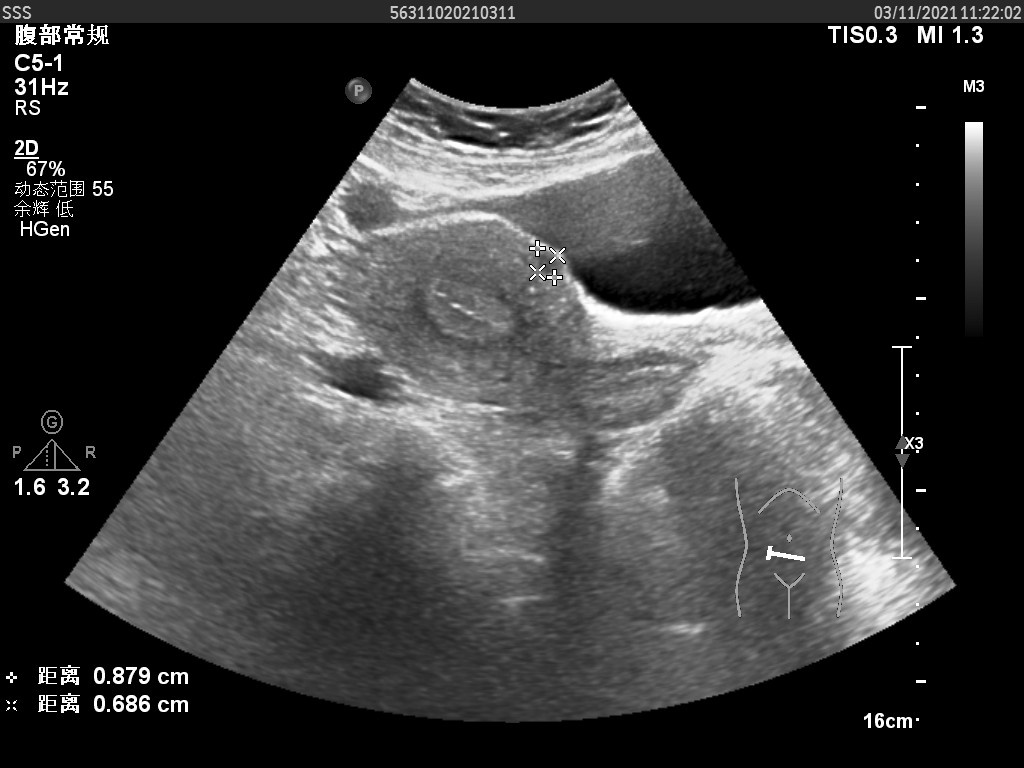肌瘤: (534, 247, 562, 278)
